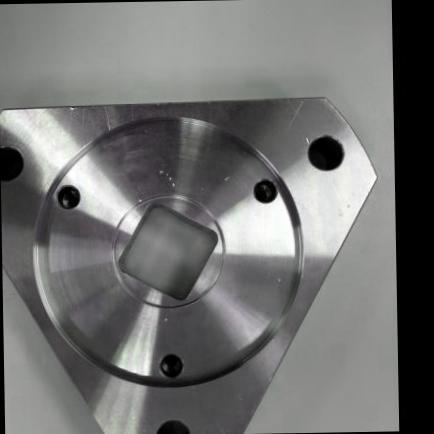hole: (301, 130, 348, 172), (154, 348, 185, 382), (0, 143, 24, 184), (51, 180, 82, 211), (249, 174, 279, 206), (150, 416, 192, 434)
